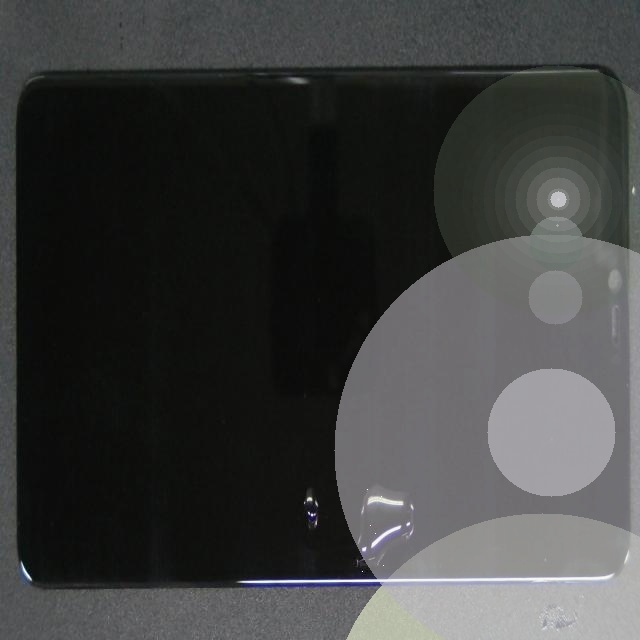oil: (187, 223, 537, 640), (141, 229, 449, 640)
